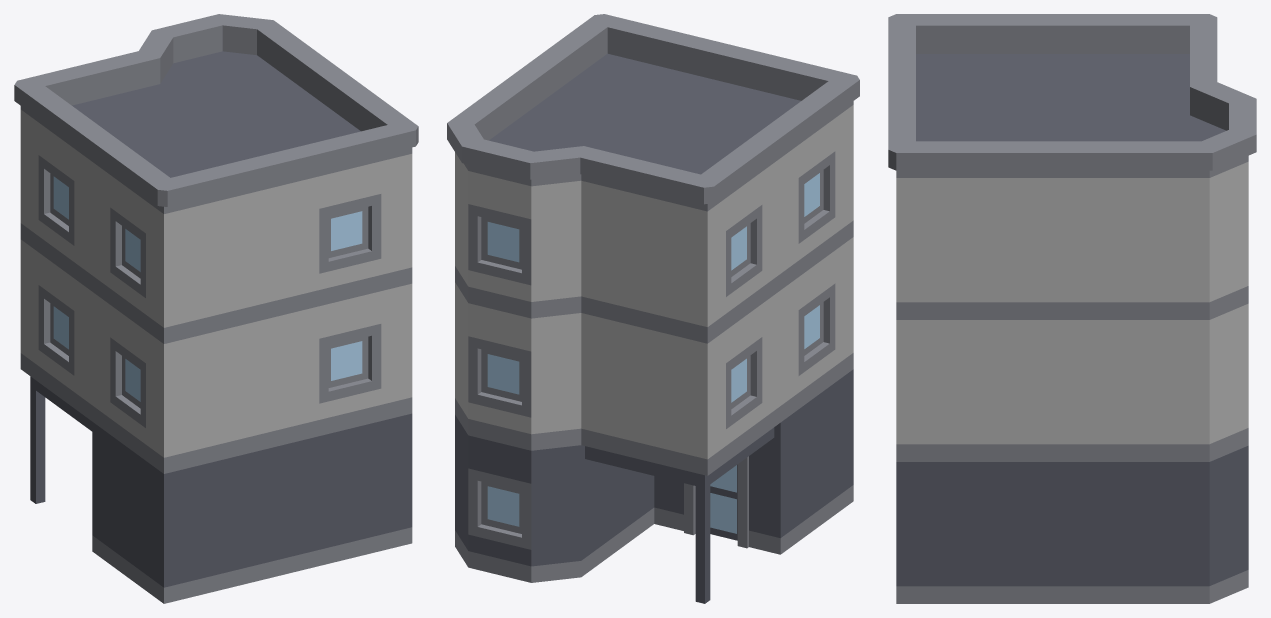
The model's file is small_buildingC.obj.
3 views of the same model, side by side, from view 1: azimuth 30°, elevation 25°; view 2: azimuth 150°, elevation 25°; view 3: azimuth 270°, elevation 25° (orthographic). The views are drawn at different scales.
Visible parts, largest first — view 1: small_buildingC; view 2: small_buildingC; view 3: small_buildingC.
Boxes of the visible parts, box(x1,y1,x2,y2) form: small_buildingC: box(14, 14, 418, 603); small_buildingC: box(447, 14, 859, 603); small_buildingC: box(888, 14, 1256, 603).
Bounding box in the file's own units: 0.84 × 1.28 × 0.94.
